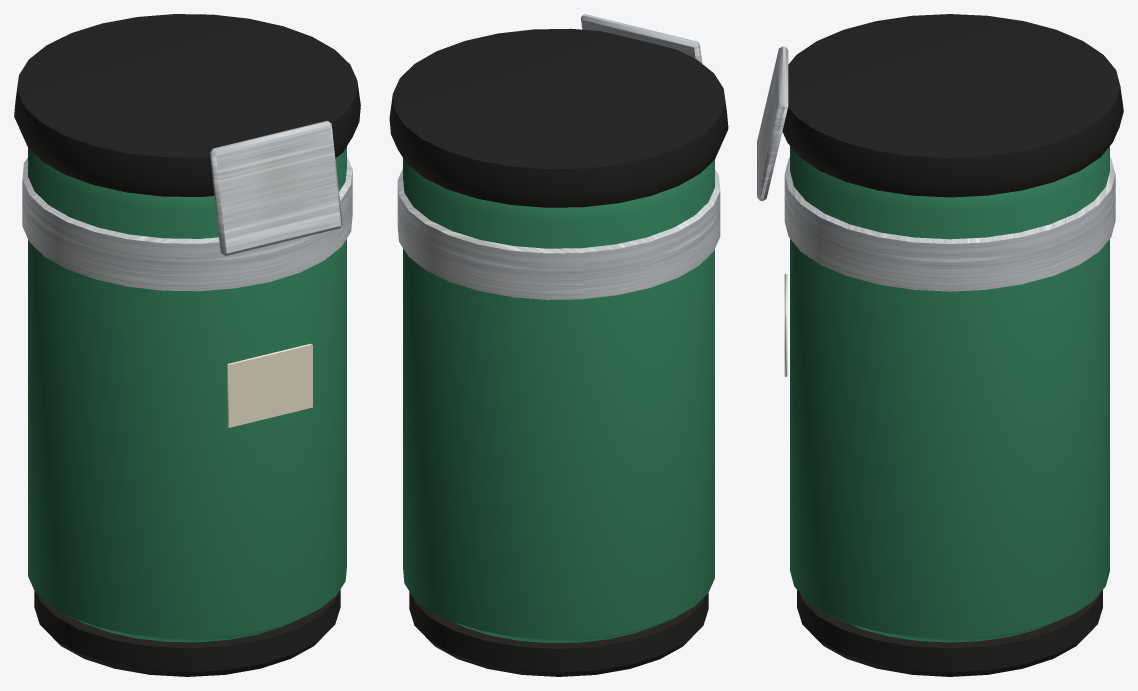
The model's file is bin.glb.
The picture shows the model from 3 angles, left to right: view 1: azimuth 30°, elevation 25°; view 2: azimuth 150°, elevation 25°; view 3: azimuth 270°, elevation 25°; orthographic projection. The views are drawn at different scales.
Visible parts, largest first — view 1: bin__paint_green, bin__rubber_black, bin__steel_brushed, SIGN_bin; view 2: bin__paint_green, bin__rubber_black, bin__steel_brushed; view 3: bin__paint_green, bin__rubber_black, bin__steel_brushed.
Boxes of the visible parts, x1,y1,x2,y2 form: bin__paint_green: (28,146,346,642); bin__rubber_black: (14,14,360,676); bin__steel_brushed: (22,121,352,291); SIGN_bin: (228,344,312,427); bin__paint_green: (403,158,714,642); bin__rubber_black: (389,28,728,676); bin__steel_brushed: (397,14,720,299); bin__paint_green: (790,146,1109,642); bin__rubber_black: (782,14,1123,676); bin__steel_brushed: (757,46,1115,291).
Bounding box in the file's own units: 0.5 × 0.8587 × 0.5275.
5 materials, 1 textured.
